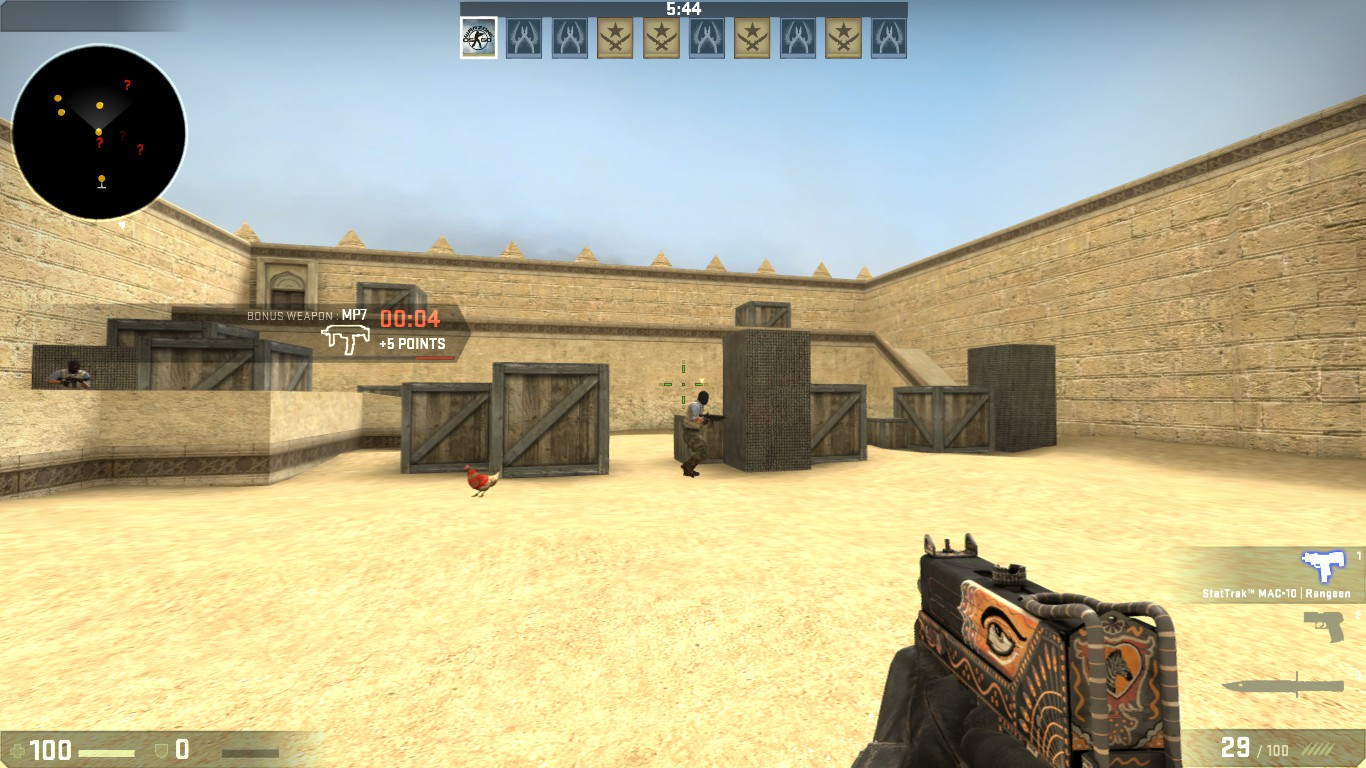t: (679, 390, 713, 478), (54, 358, 94, 392)
th: (693, 389, 711, 407), (66, 358, 82, 375)
